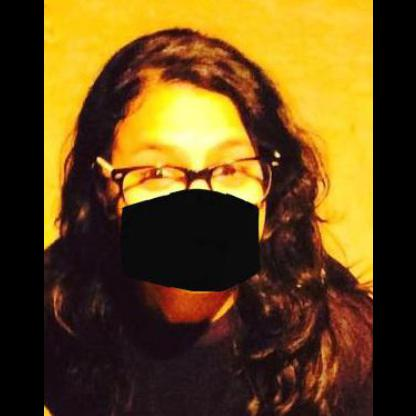Fabric/Cloth Mask: (120, 117, 266, 283)
